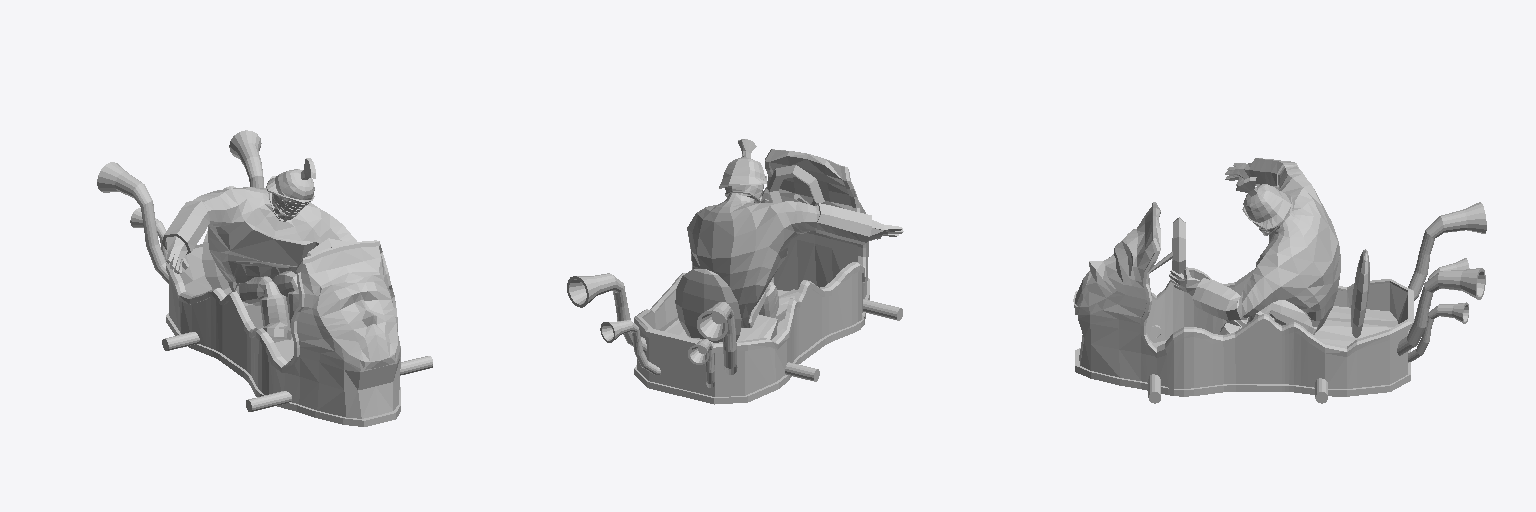
File: gladiVacile_000563.obj
The picture shows the model from 3 angles: view 1: azimuth 30°, elevation 25°; view 2: azimuth 150°, elevation 25°; view 3: azimuth 270°, elevation 25°; orthographic projection.
Parts seen in each view (by area): view 1: GladiChasis_GladiChasisH, Gadiador_Gladiador_H.001, GladiTubos_GladiTubosH, GladiVolante_GladiVolanteH; view 2: GladiChasis_GladiChasisH, Gadiador_Gladiador_H.001, GladiTubos_GladiTubosH, GladiVolante_GladiVolanteH; view 3: GladiChasis_GladiChasisH, Gadiador_Gladiador_H.001, GladiTubos_GladiTubosH, GladiVolante_GladiVolanteH.
Boxes of the visible parts, box(x1,y1,x2,y2) form: GladiChasis_GladiChasisH: box(166, 240, 400, 426); Gadiador_Gladiador_H.001: box(162, 158, 356, 339); GladiTubos_GladiTubosH: box(97, 130, 263, 283); GladiVolante_GladiVolanteH: box(162, 231, 432, 411); GladiChasis_GladiChasisH: box(634, 149, 869, 404); Gadiador_Gladiador_H.001: box(687, 139, 903, 327); GladiTubos_GladiTubosH: box(567, 273, 737, 387); GladiVolante_GladiVolanteH: box(675, 165, 902, 381); GladiChasis_GladiChasisH: box(1073, 202, 1413, 396); Gadiador_Gladiador_H.001: box(1169, 158, 1340, 334); GladiTubos_GladiTubosH: box(1397, 202, 1486, 362); GladiVolante_GladiVolanteH: box(1148, 217, 1369, 403).
Bounding box in the file's own units: 6.72 × 5.63 × 10.78.